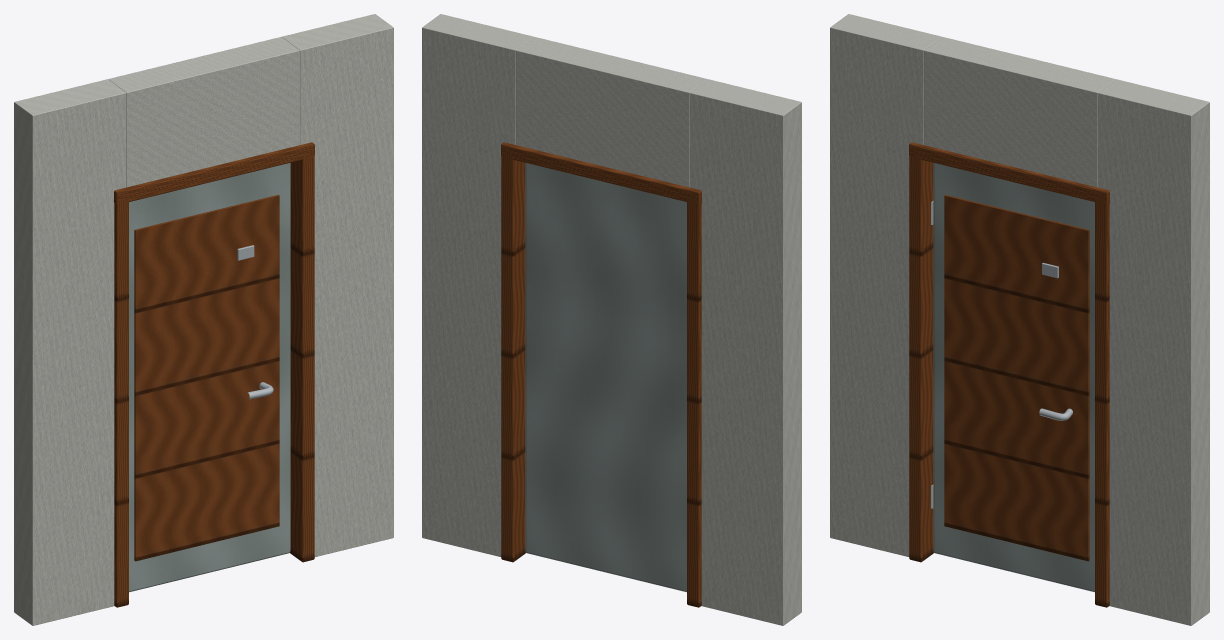
Rendered from liminal-spaces-kit-hotel-door-07d35d7d__25325.glb.
3 views of the same model, side by side, from view 1: azimuth 30°, elevation 25°; view 2: azimuth 150°, elevation 25°; view 3: azimuth 330°, elevation 25° (orthographic).
Visible parts, largest first — view 1: hotel-door, door (×2); view 2: hotel-door, door; view 3: hotel-door, door (×2).
Part boxes in pixels (x1=…): hotel-door: x1=14, y1=14, x2=393, y2=625; door (×2): x1=129, y1=162, x2=290, y2=592; hotel-door: x1=422, y1=14, x2=801, y2=625; door: x1=525, y1=162, x2=686, y2=592; hotel-door: x1=830, y1=14, x2=1209, y2=625; door (×2): x1=933, y1=162, x2=1094, y2=592.
Size of the model in its own units: 2 by 2.7 by 0.2473.
4 materials, 3 textured.
